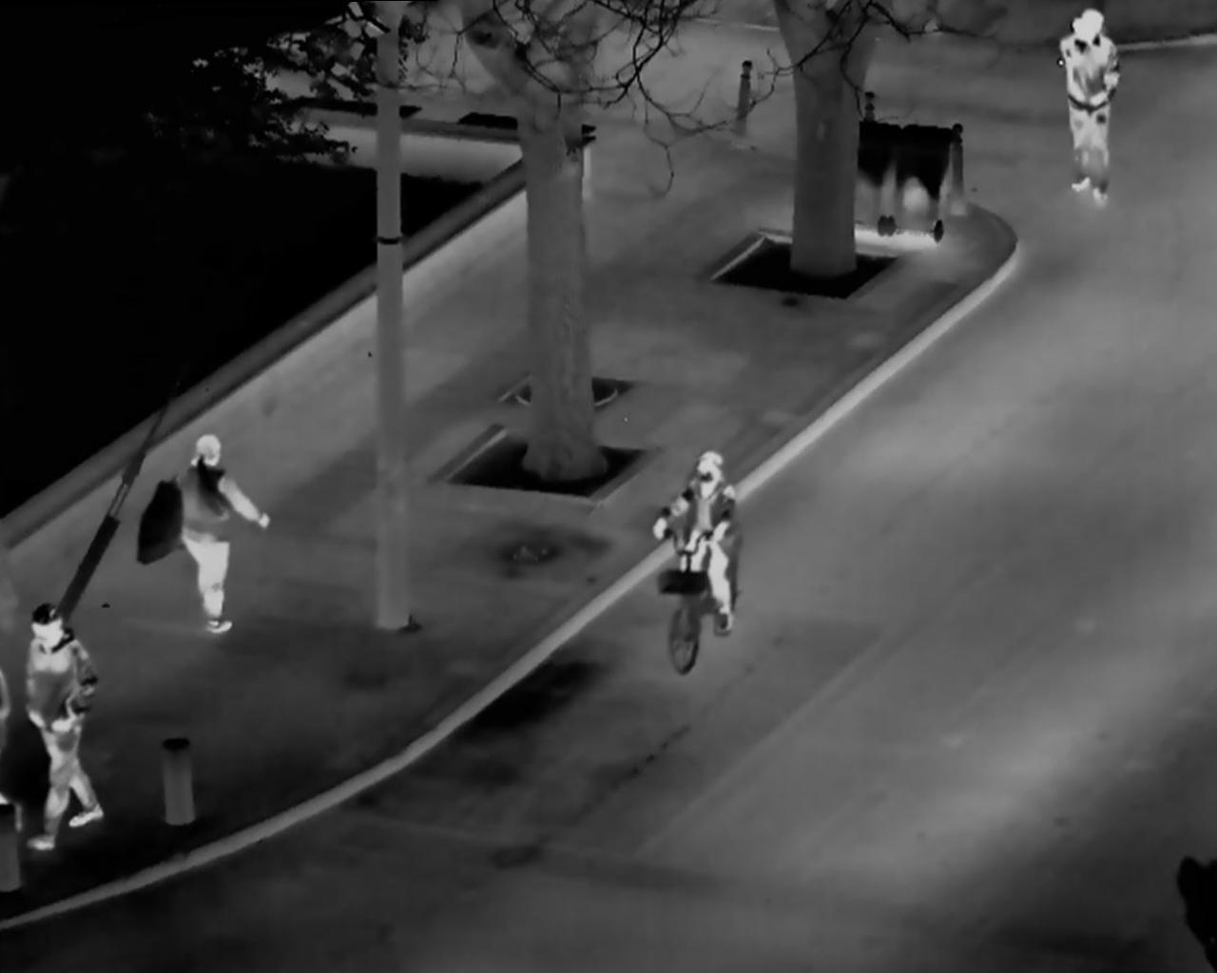person: (145, 422, 279, 639), (14, 598, 122, 855), (652, 442, 768, 662), (1053, 11, 1131, 217)
